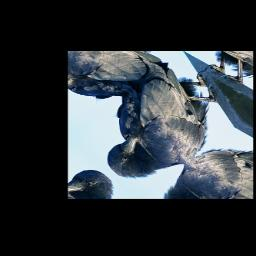Crow: (71, 52, 252, 196)
